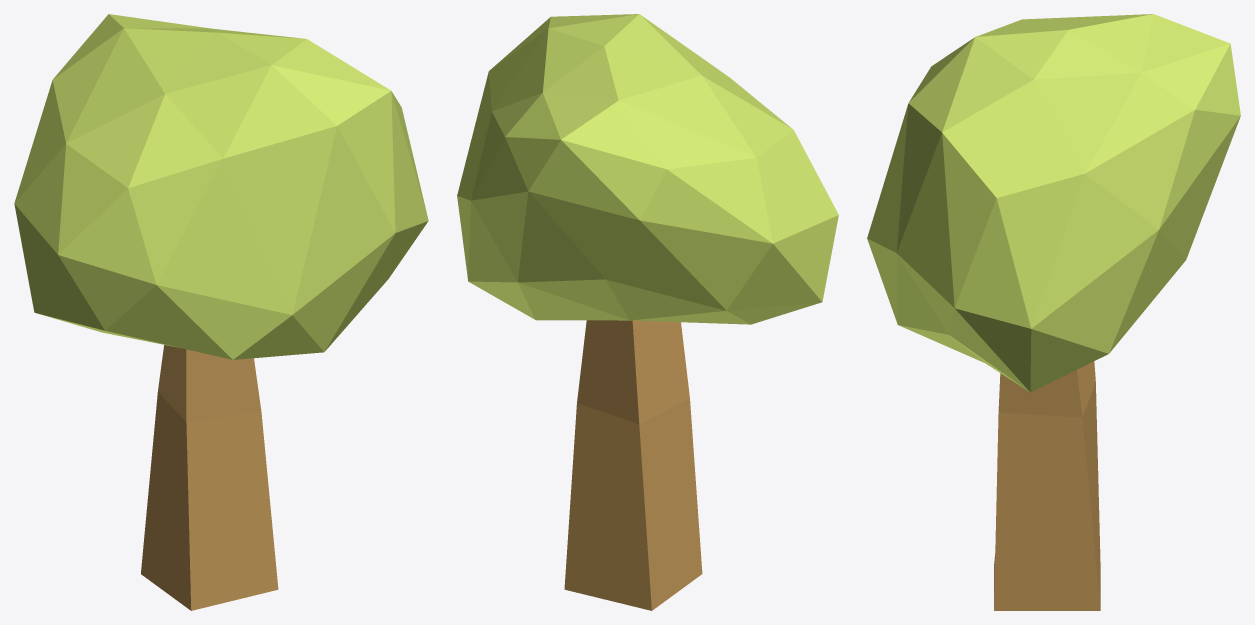
File: Tree_2.glb
The picture shows the model from 3 angles, left to right: view 1: azimuth 30°, elevation 25°; view 2: azimuth 150°, elevation 25°; view 3: azimuth 270°, elevation 25°; orthographic projection. The views are drawn at different scales.
Visible parts, largest first — view 1: Tree_2; view 2: Tree_2; view 3: Tree_2.
Boxes of the visible parts, x1,y1,x2,y2 form: Tree_2: (14,14,428,610); Tree_2: (457,14,838,610); Tree_2: (867,14,1240,610).
Size of the model in its own units: 5.51 by 7.74 by 4.61.
